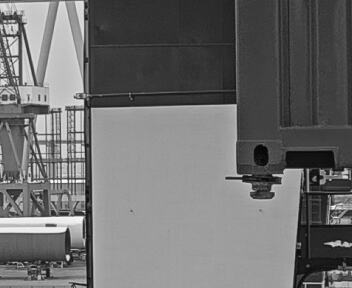twist_lock_1: (235, 168, 285, 209)
